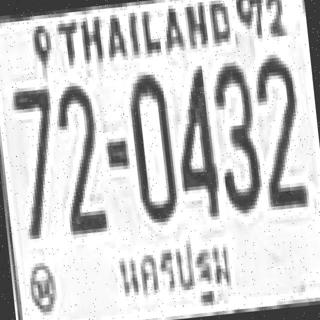N00: (125, 70, 176, 220)
N02: (252, 53, 306, 207), (53, 79, 105, 233), (251, 53, 303, 193)
N03: (210, 59, 262, 210)
N04: (170, 64, 219, 218)
N07: (10, 85, 62, 236)
P28: (112, 230, 232, 312)
